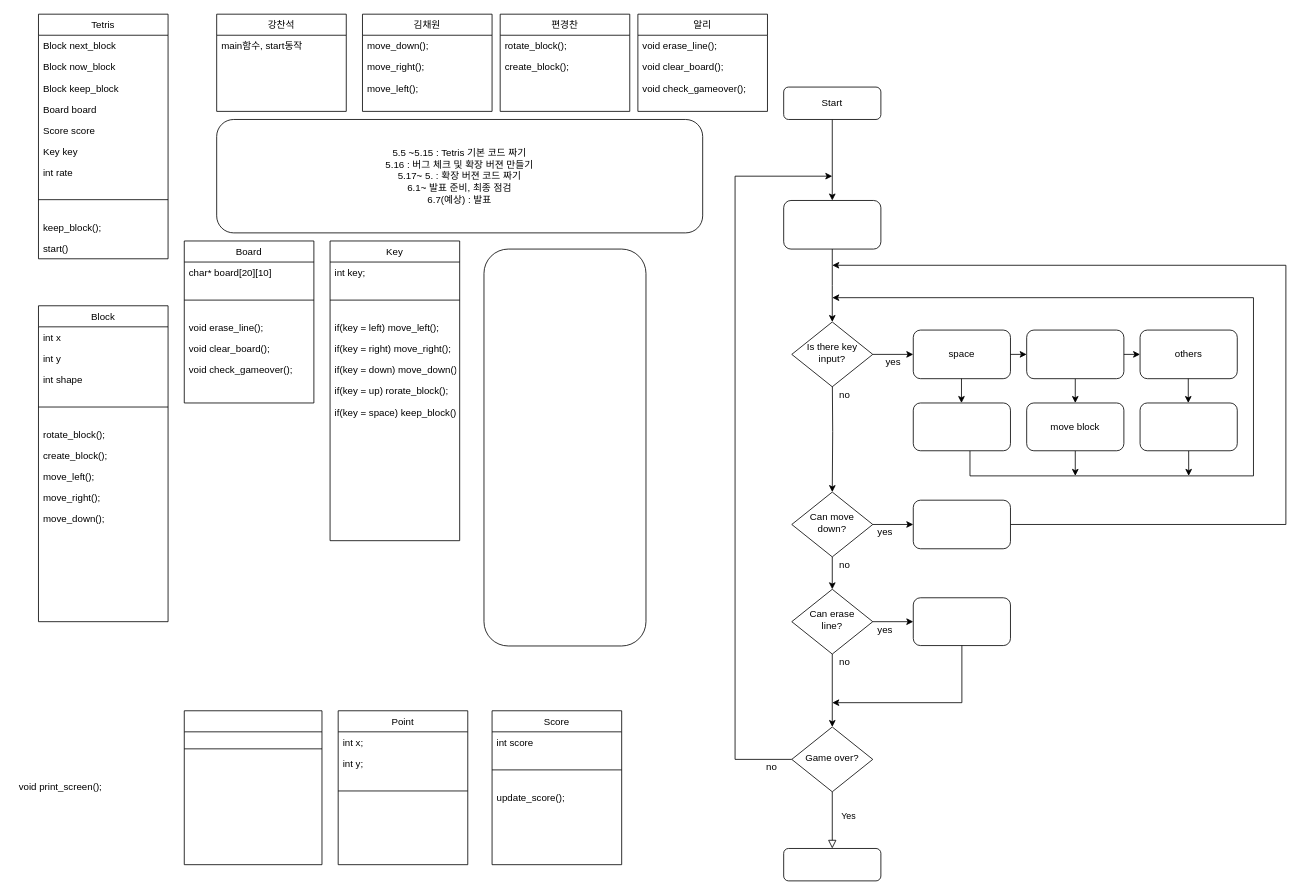
The diagram is 1307 pixels wide and 895 high, and some of its shapes have lost their labels. Here are the shapes that lost their labels. From the top down, the centre of each, then its label:
(x=832, y=224): Create block
(x=1075, y=354): arrow
(x=961, y=426): Rotate Block
(x=1188, y=426): special control
(x=564, y=447): start 보드 초기화 블럭생성 time동안 key있으면 key동작 블럭이 아래로 게임오버인지?
(x=961, y=524): move block down
(x=961, y=621): erase line
(x=252, y=787): Moded_version : publicTetris
(x=832, y=864): End
